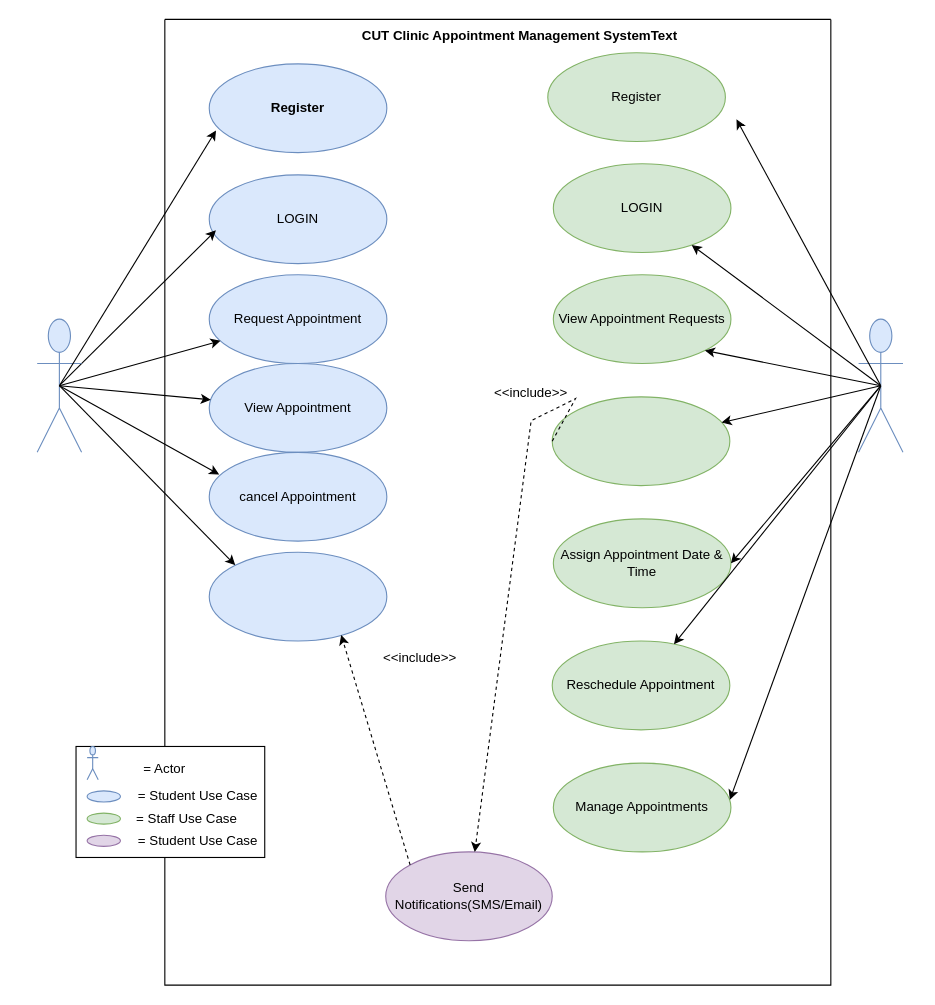
This 935x1005 diagram has some shape labels left out. Here are the shapes that lost their labels. From the top down, the box of each, then its label:
(36, 318, 82, 452): CUT Student
(857, 318, 903, 452): Clinic Staff
(551, 396, 730, 486): Approve/Reject Request
(208, 551, 387, 641): Receive Notifications(SMS/Email)
